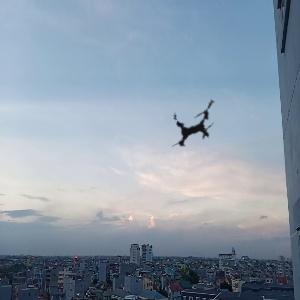drone: (147, 80, 242, 175)
